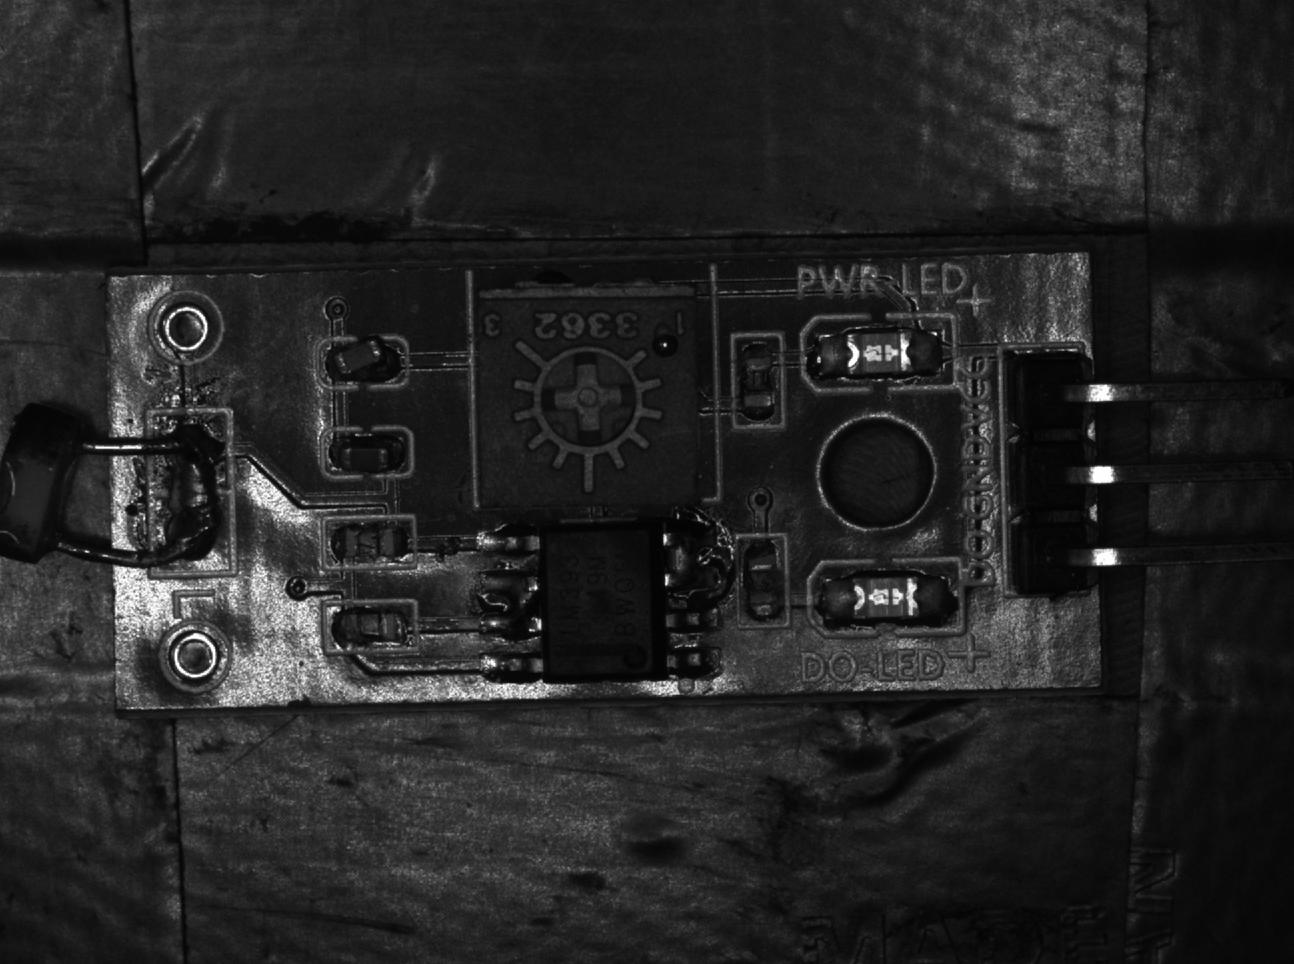bridge: (146, 415, 233, 576), (663, 519, 731, 596), (478, 564, 541, 643)
lifted: (322, 337, 407, 388)
miss: (323, 600, 420, 658), (735, 533, 790, 626), (318, 518, 416, 570), (731, 334, 783, 428)
ok: (319, 428, 413, 483)
